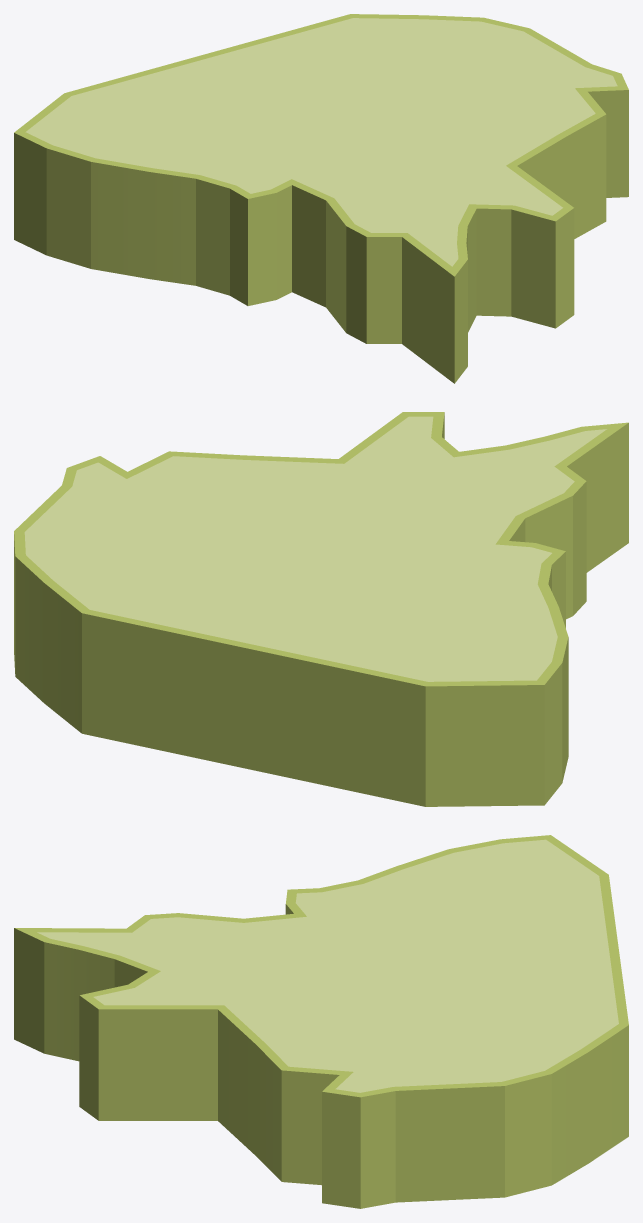
Rendered from Islands1.002.fbx.
3 views of the same model, one above another, from view 1: azimuth 30°, elevation 25°; view 2: azimuth 150°, elevation 25°; view 3: azimuth 270°, elevation 25° (orthographic). The views are drawn at different scales.
Parts seen in each view (by area): view 1: Island1.002; view 2: Island1.002; view 3: Island1.002.
Part boxes in pixels (box(x1,y1,x2,y2)): Island1.002: box(14, 14, 628, 383); Island1.002: box(14, 412, 628, 806); Island1.002: box(14, 835, 628, 1208).
Bounding box in the file's own units: 126 × 25 × 125.
